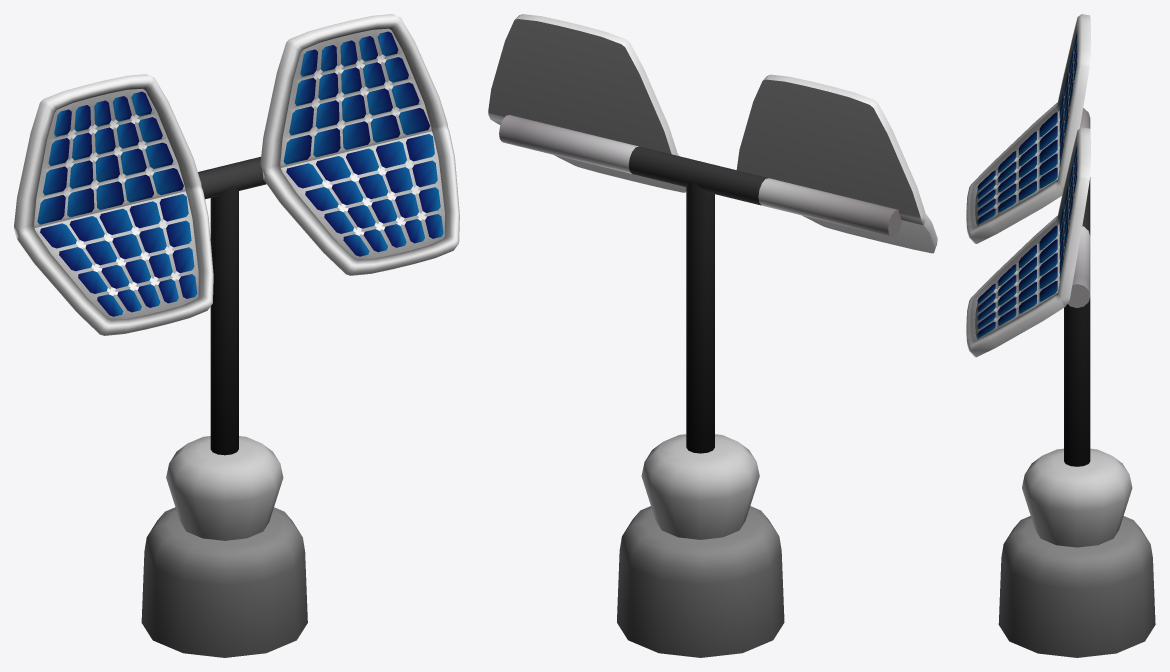
The model's file is Solar_Panel_03.fbx.
3 views of the same model, side by side, from view 1: azimuth 30°, elevation 25°; view 2: azimuth 150°, elevation 25°; view 3: azimuth 270°, elevation 25° (orthographic). The views are drawn at different scales.
Visible parts, largest first — view 1: Solar_Panel_03; view 2: Solar_Panel_03; view 3: Solar_Panel_03.
Boxes of the visible parts, x1,y1,x2,y2 form: Solar_Panel_03: (14,14,459,657); Solar_Panel_03: (488,14,937,657); Solar_Panel_03: (966,14,1155,657).
Size of the model in its own units: 226 by 285 by 91.42.
